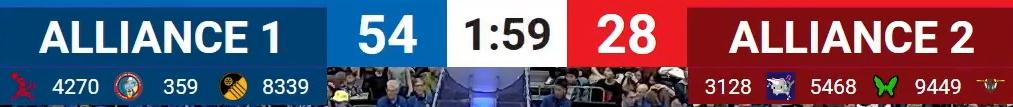blue_score: (354, 11, 423, 57)
red_score: (594, 11, 661, 58)
team_number: (910, 74, 964, 98), (48, 75, 103, 98), (806, 75, 860, 98), (259, 75, 311, 97), (702, 75, 754, 97), (161, 75, 201, 98)
timer: (462, 13, 552, 55)
